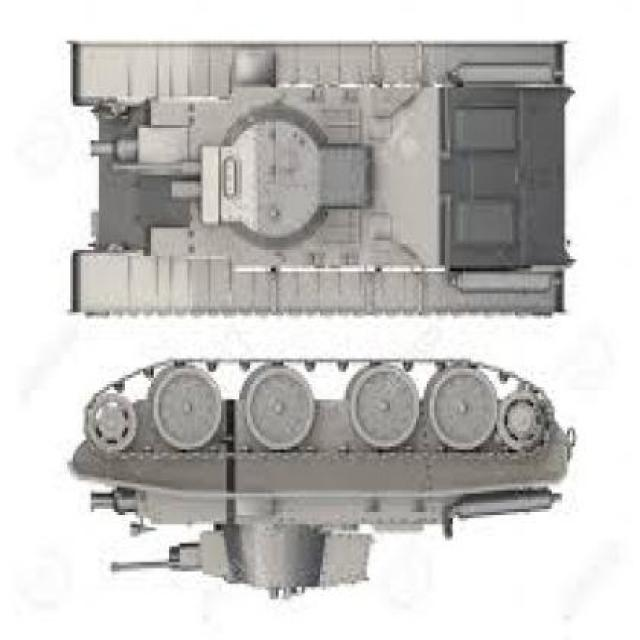tank: (69, 43, 568, 320), (67, 358, 576, 599)
